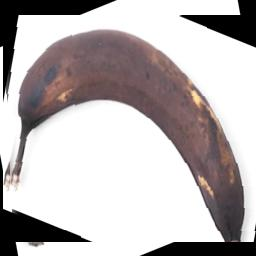Banana Rotten: (3, 15, 256, 242)
